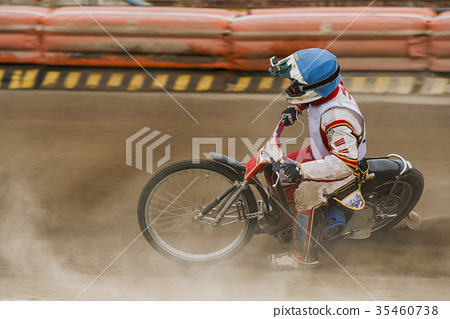helmet: (273, 47, 340, 102)
